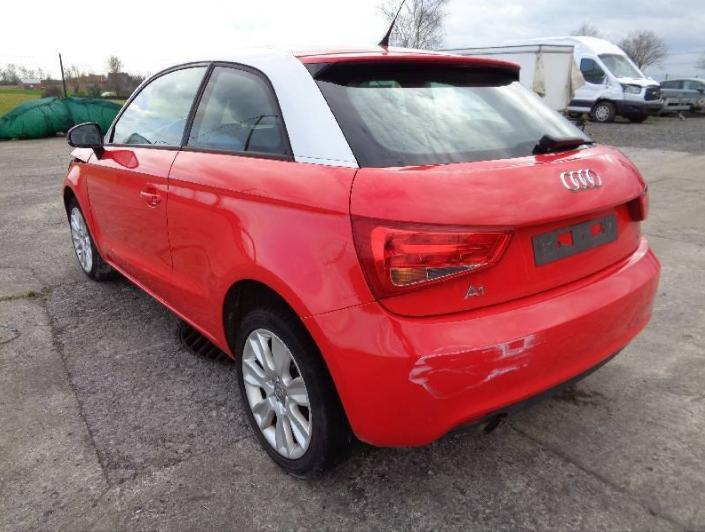Back-bumper: (302, 236, 661, 448)
Back-wheel: (235, 304, 353, 478)
Back-window: (187, 67, 287, 154)
Back-windshield: (314, 70, 593, 167)
Fender: (61, 162, 102, 254)
Front-door: (85, 62, 214, 301)
Front-wheel: (69, 198, 116, 281)
Front-window: (112, 66, 208, 146)
Hood: (70, 148, 95, 162)
Mirror: (66, 121, 105, 160)
Quarter-panel: (165, 148, 376, 343)
Rocker-panel: (101, 255, 235, 360)
Roof: (156, 43, 461, 74)
Tail-light: (350, 214, 515, 301), (627, 188, 648, 220)
Trunk: (350, 143, 646, 318), (297, 52, 520, 81)
